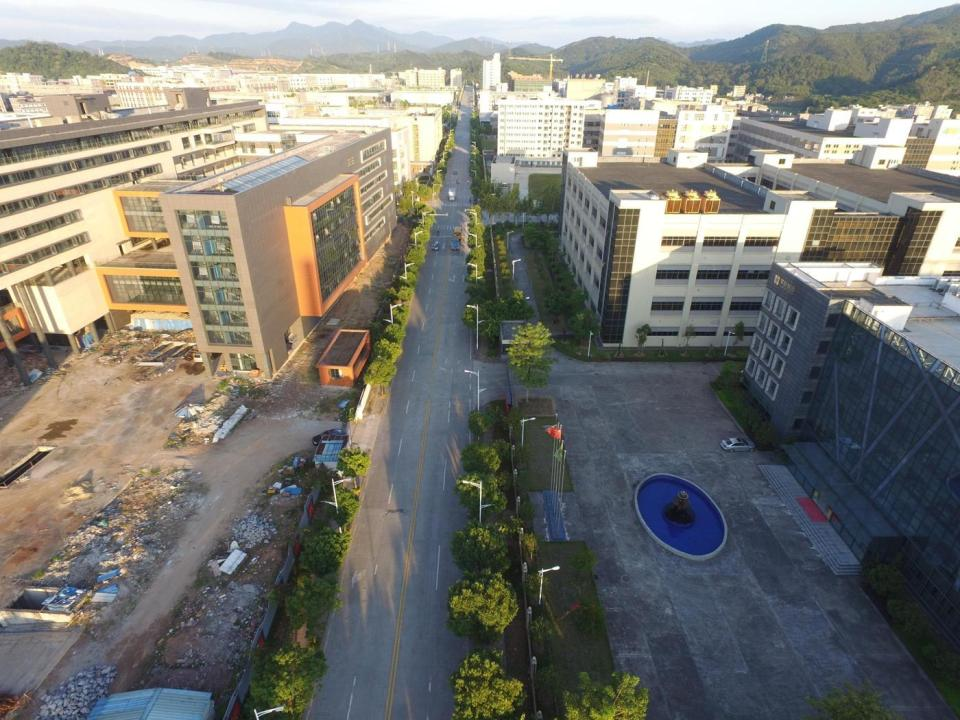bus: (453, 226, 462, 241)
car: (312, 427, 348, 447), (720, 437, 756, 453), (432, 241, 440, 251), (453, 170, 458, 174)
truck: (451, 235, 460, 251), (448, 186, 456, 201)
van: (193, 345, 210, 363)
